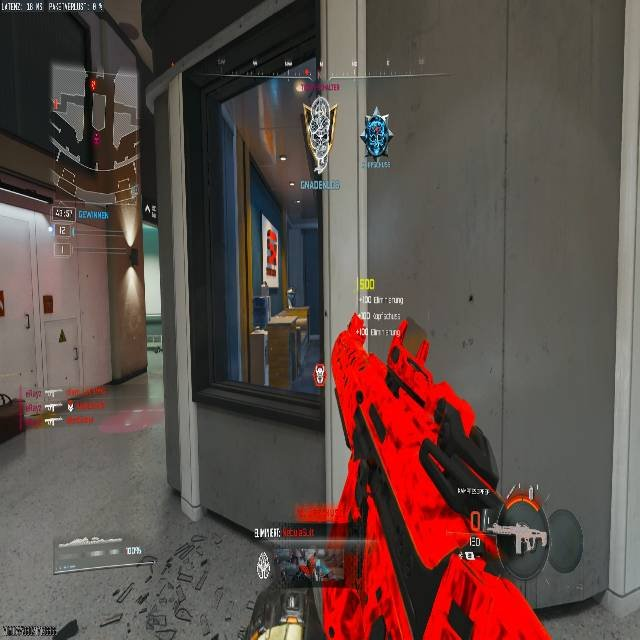player: (360, 107, 392, 165)
